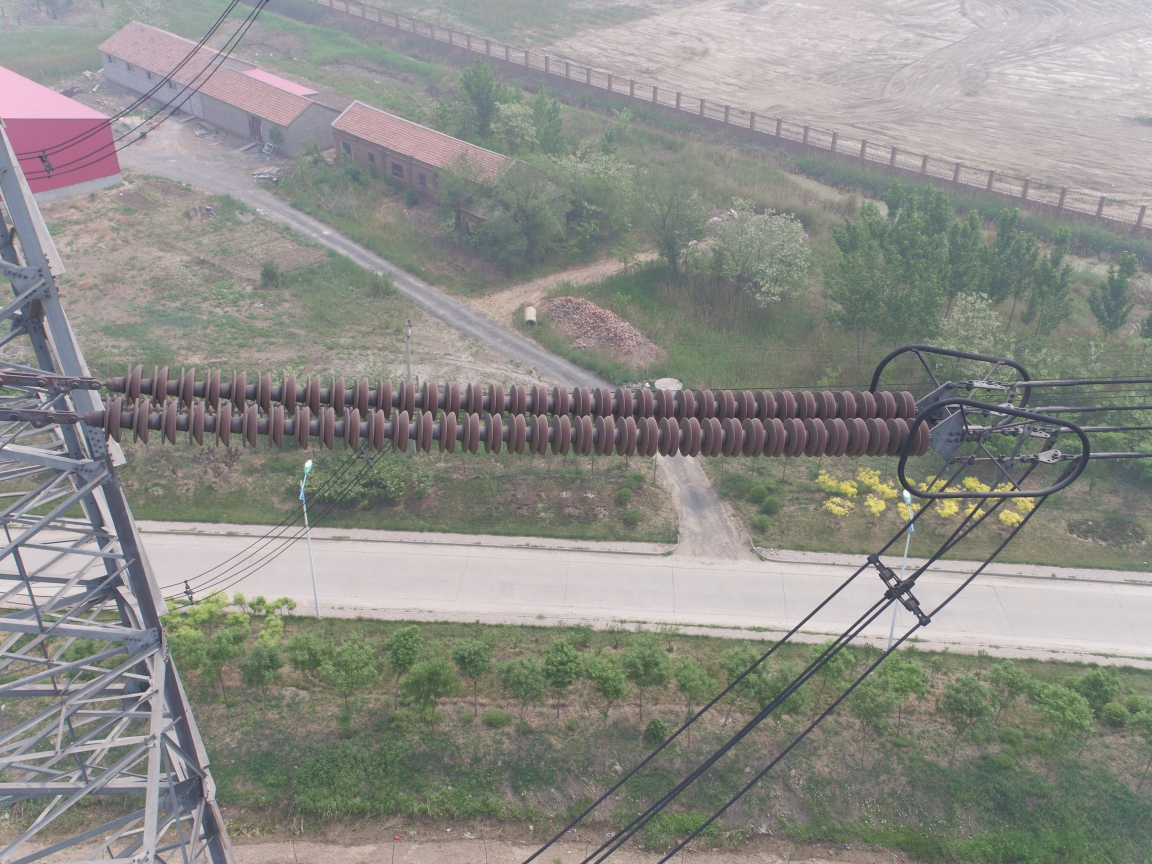insulator: (21, 358, 944, 458)
